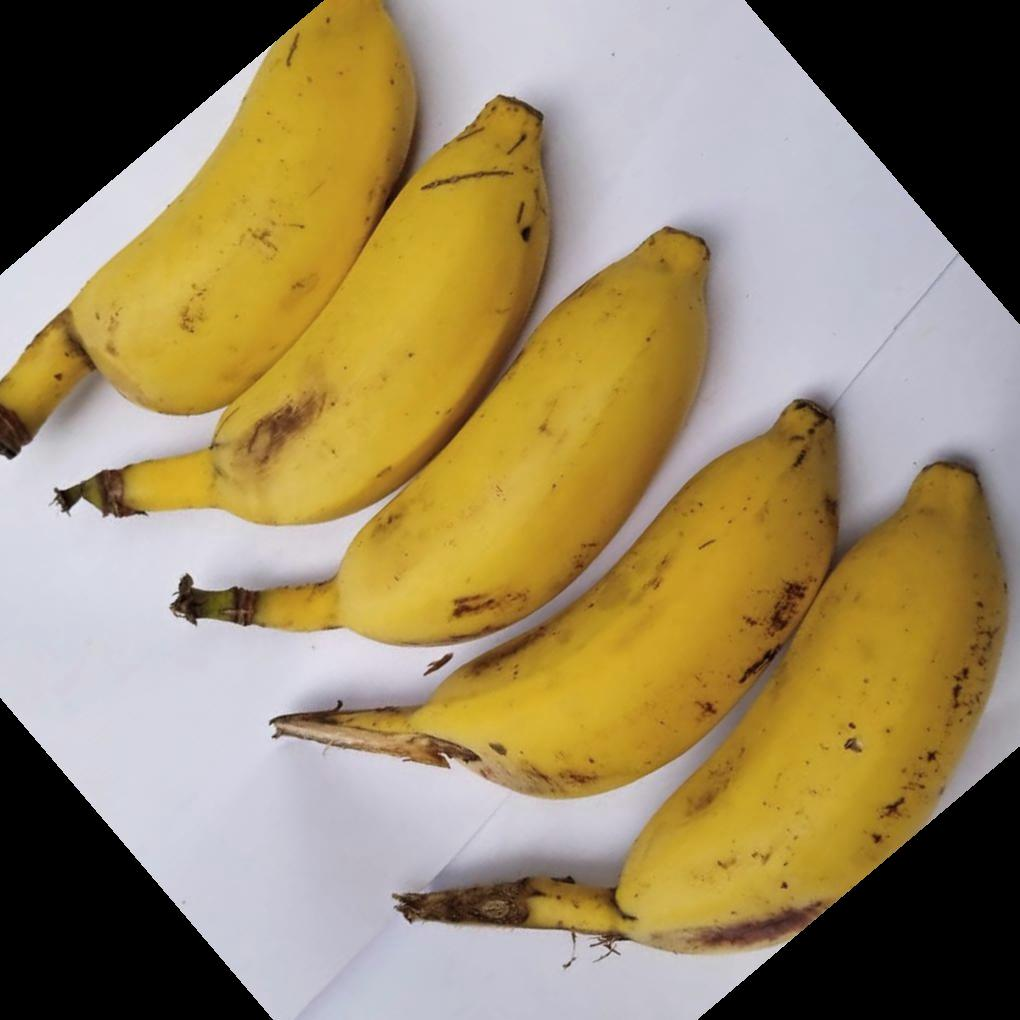Banana Ripe: (44, 0, 1014, 1006), (529, 446, 1006, 1014), (222, 226, 726, 650), (372, 388, 856, 802), (183, 90, 566, 554), (106, 0, 419, 423)
